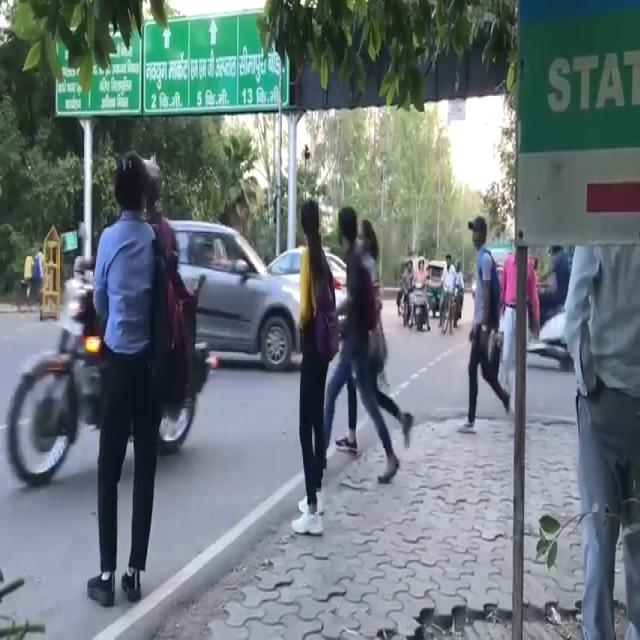MOTORCYCLE: (411, 278, 428, 338)
